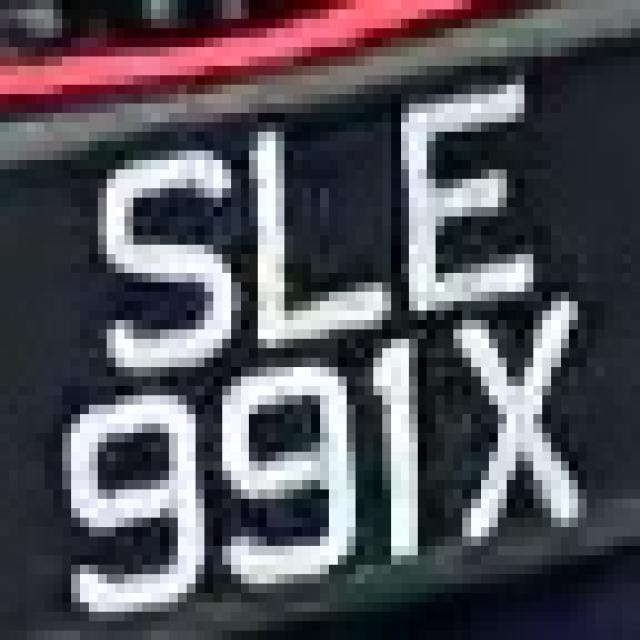1: (338, 310, 444, 602)
9: (196, 329, 364, 612), (62, 377, 204, 630)
E: (382, 85, 560, 320)
L: (213, 104, 391, 367)
S: (62, 94, 249, 358)
X: (436, 301, 586, 565)
